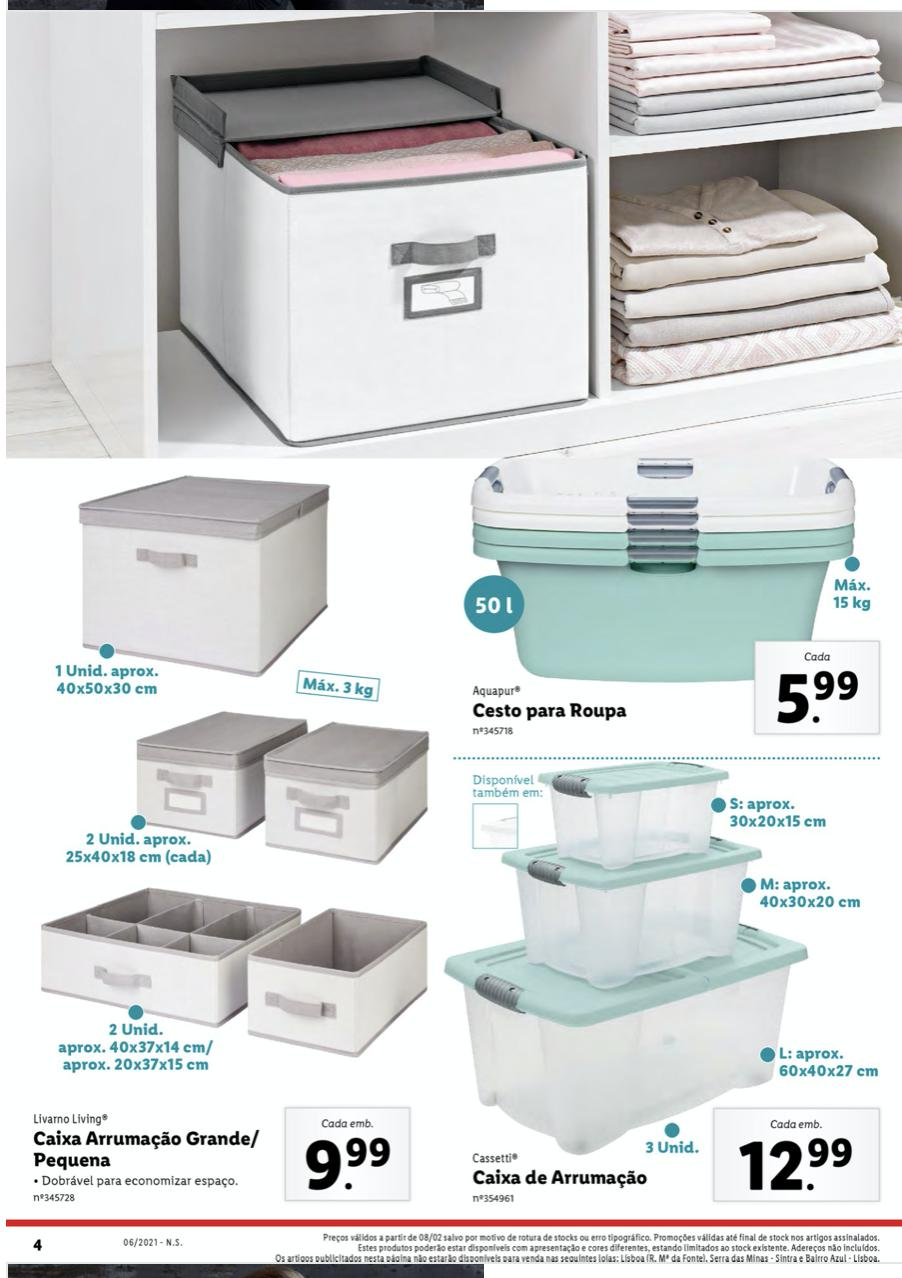name: (33, 1127, 262, 1170), (468, 1167, 652, 1194), (469, 700, 628, 724)
price: (739, 1129, 862, 1197), (766, 668, 866, 733), (301, 1133, 393, 1192)
product: (22, 463, 422, 1213), (444, 762, 885, 1211), (444, 446, 884, 741)
